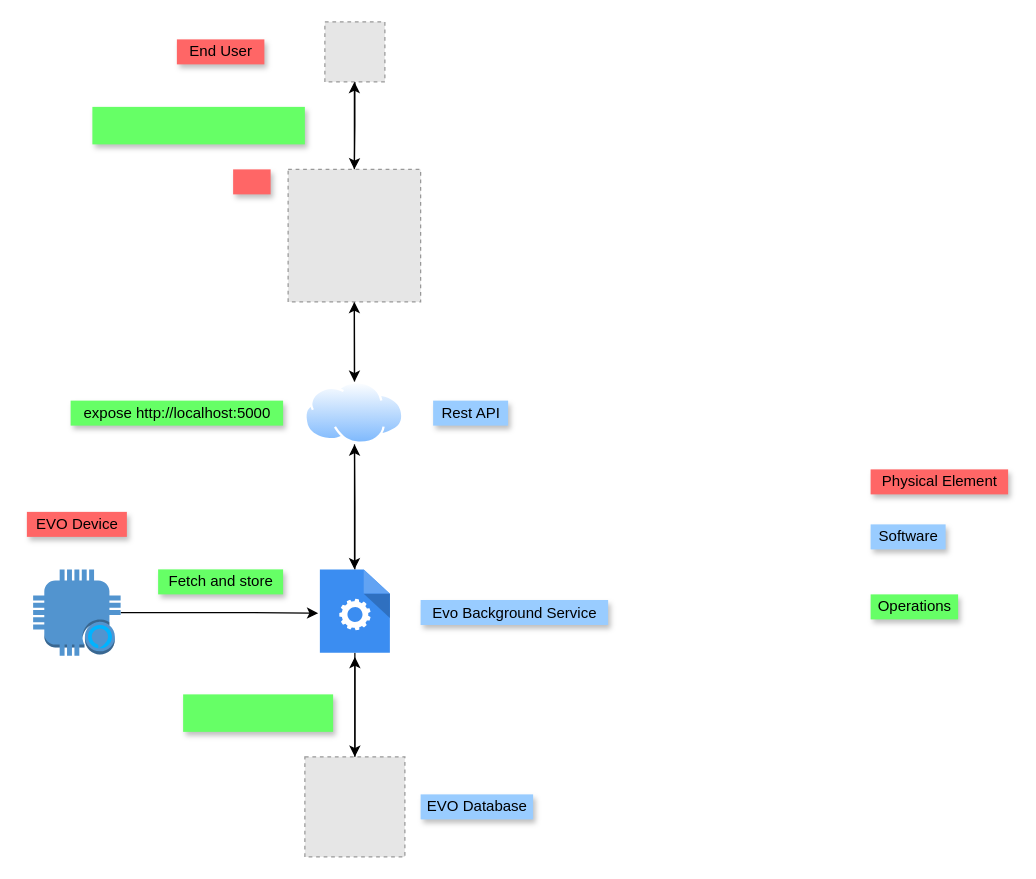
This 1036x879 diagram has some shape labels left out. Grey dashed boxes stand in for pictures. Here are the shapes that lost their labels. From the top down, the centre of each, then its label:
(199,126): Set settings by UI/ Display result by notifications
(253,183): PC
(259,714): Service access DB by user/password
